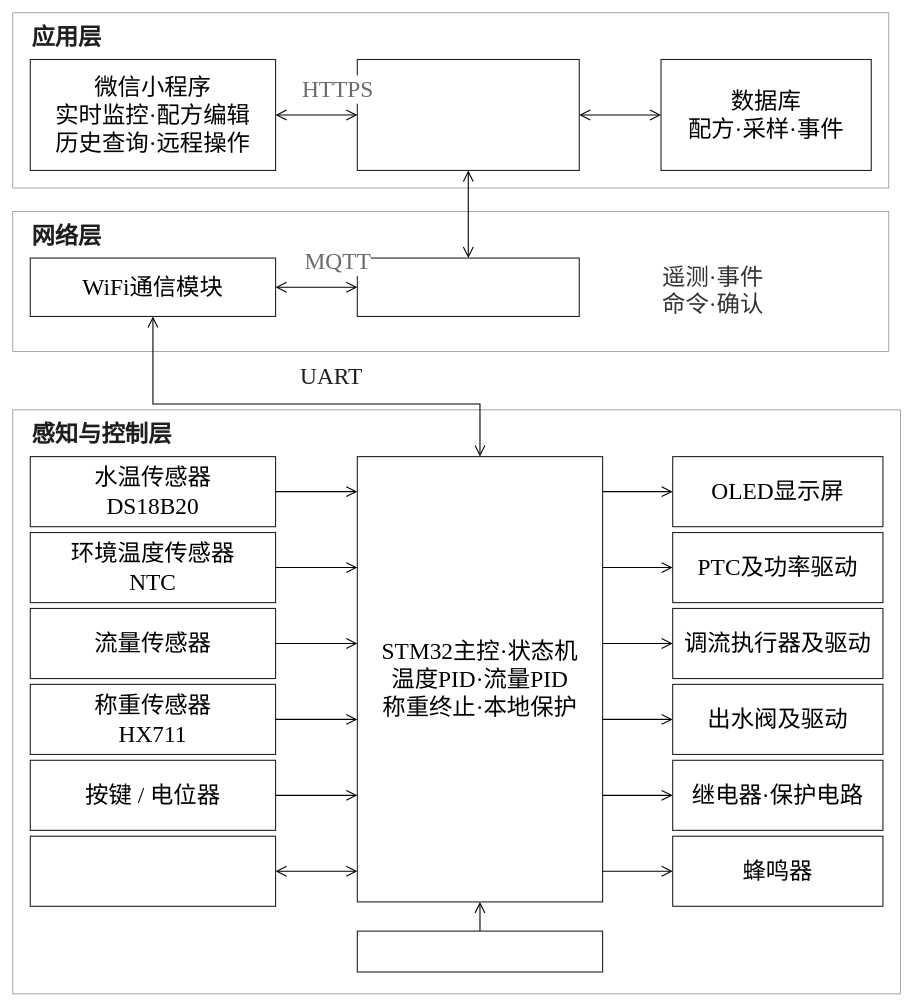
Image size: 913x1007. Some labels were removed from this diagram. Each missing label, with the box of its shape:
MQTT服务器: (356, 257, 579, 317)
RTC / Flash: (29, 835, 276, 907)
云端服务 配方与记录管理 阶段异常分析: (356, 59, 579, 171)
电源与稳压模块: (356, 930, 603, 972)
